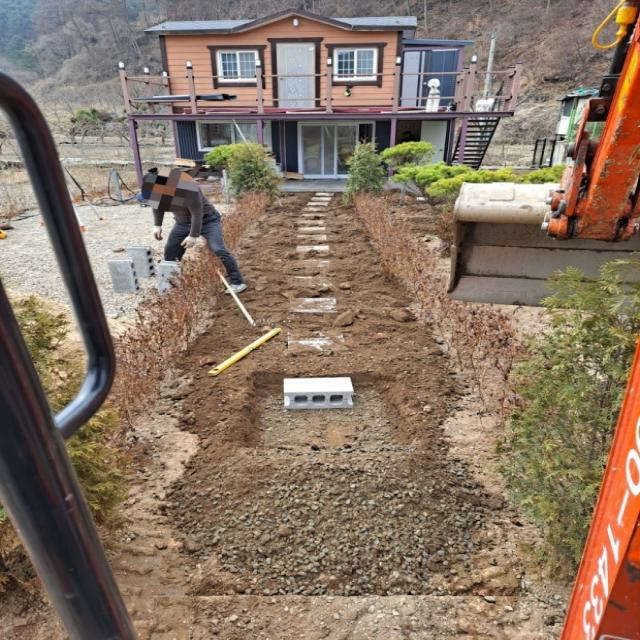brick: (285, 376, 356, 409), (108, 257, 142, 292), (128, 244, 156, 277), (158, 260, 183, 295)
plant: (503, 258, 640, 584), (202, 140, 282, 200), (382, 140, 434, 202), (346, 139, 384, 194)
